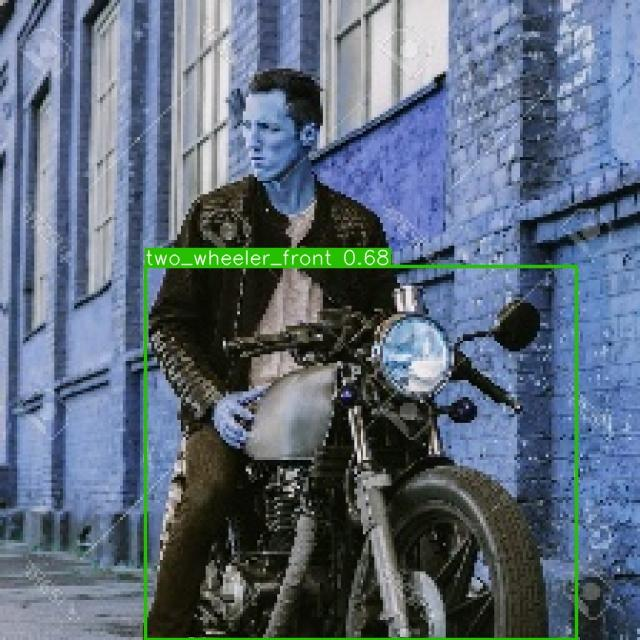two_wheeler_front: (147, 280, 553, 640)
